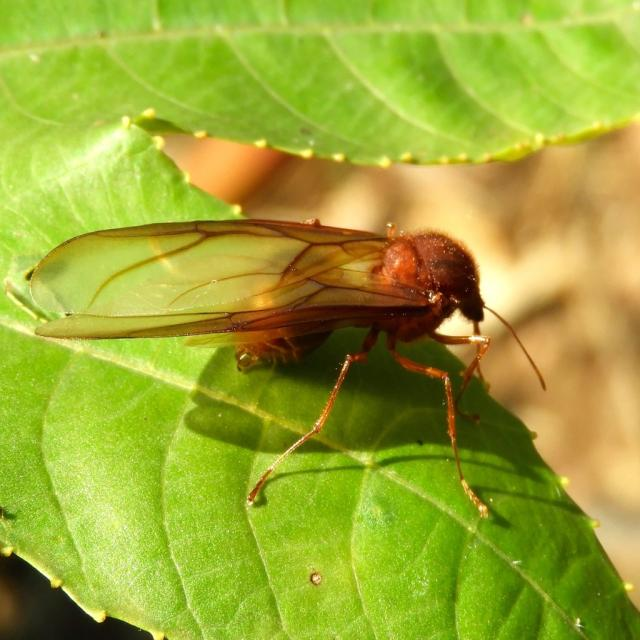Alive-Male-Alate: (28, 219, 548, 522)
